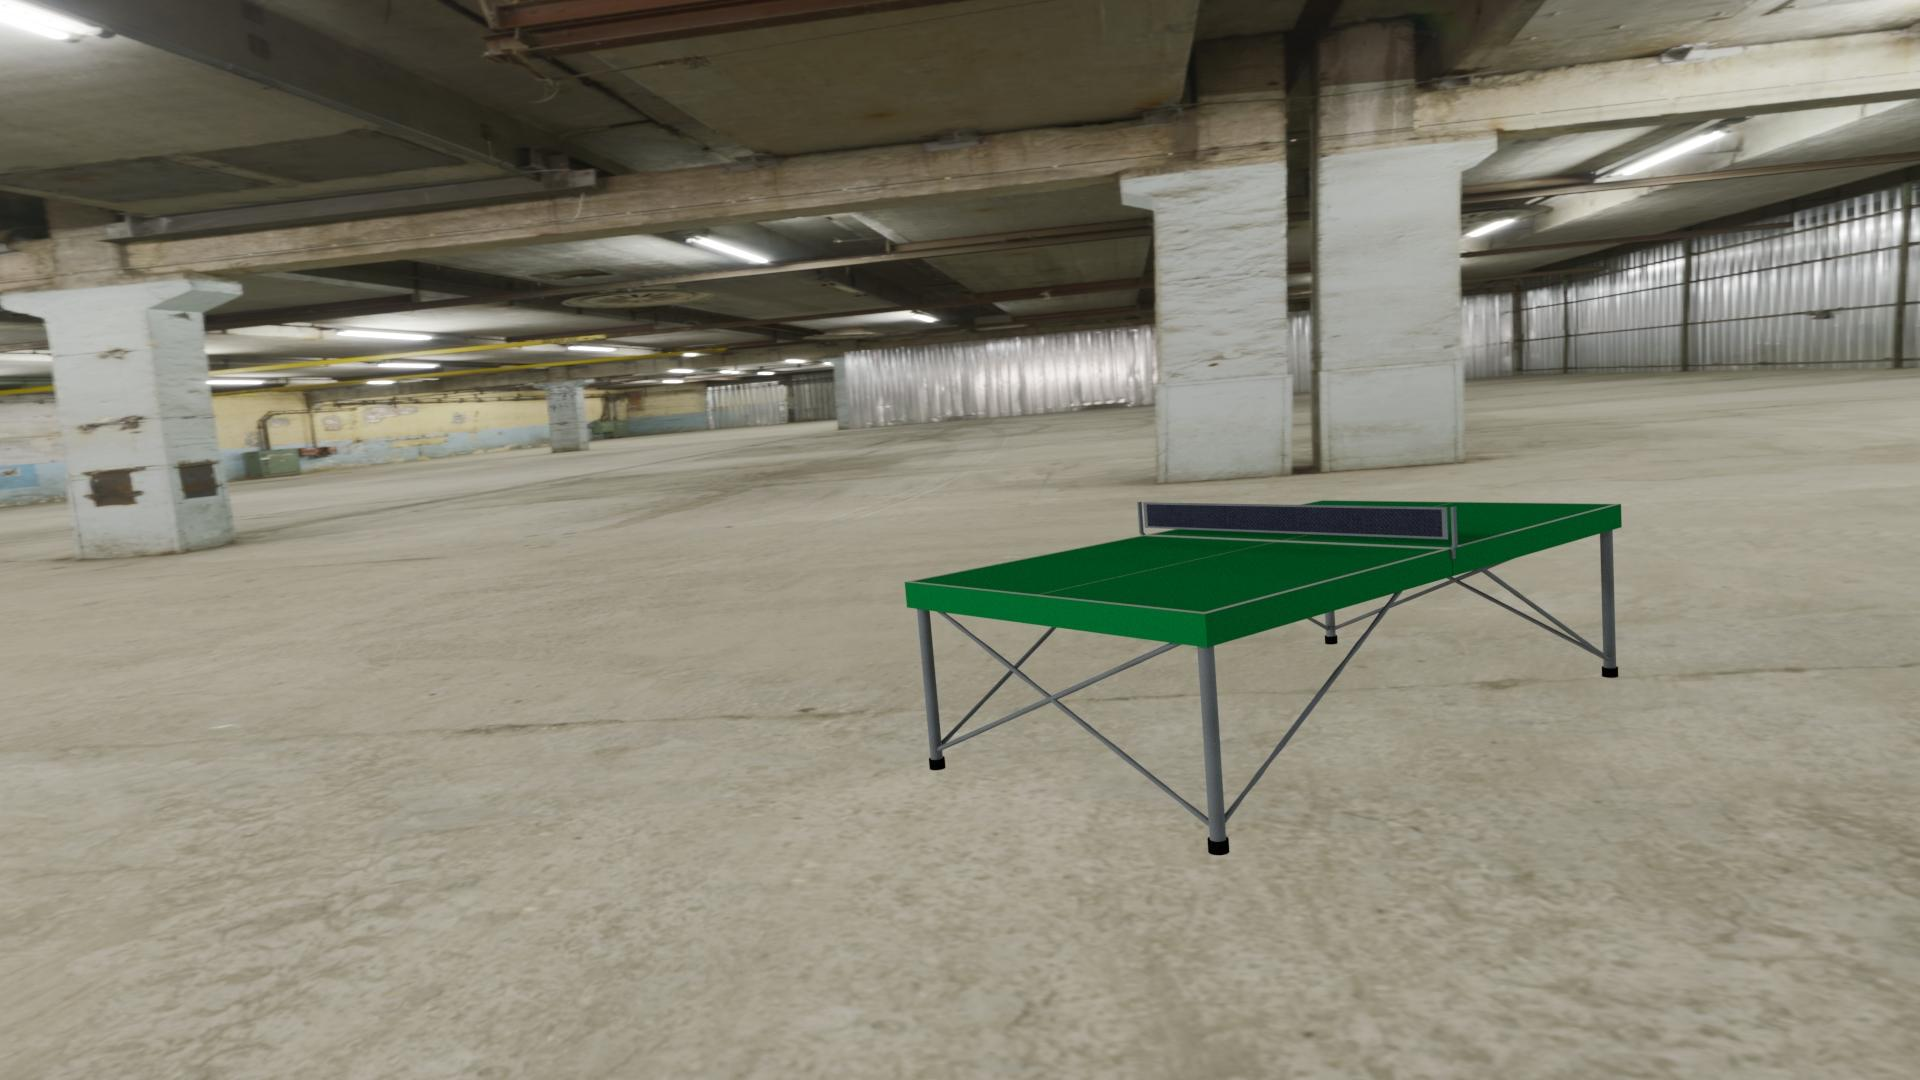table: (911, 501, 1614, 612)
